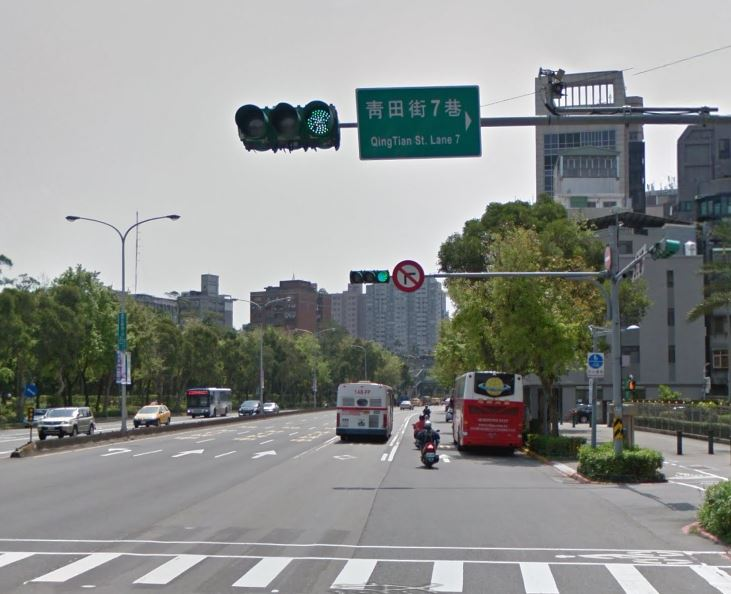Traffic_light_green: (233, 100, 345, 156), (348, 269, 390, 285)
car: (36, 404, 96, 440)
motorcycle: (419, 437, 441, 469)
